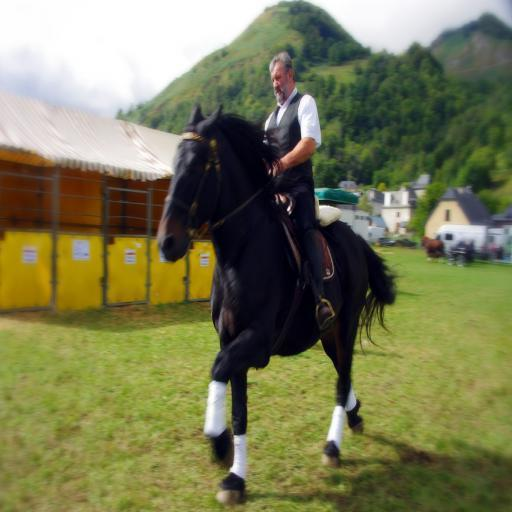horse: (156, 106, 402, 508)
